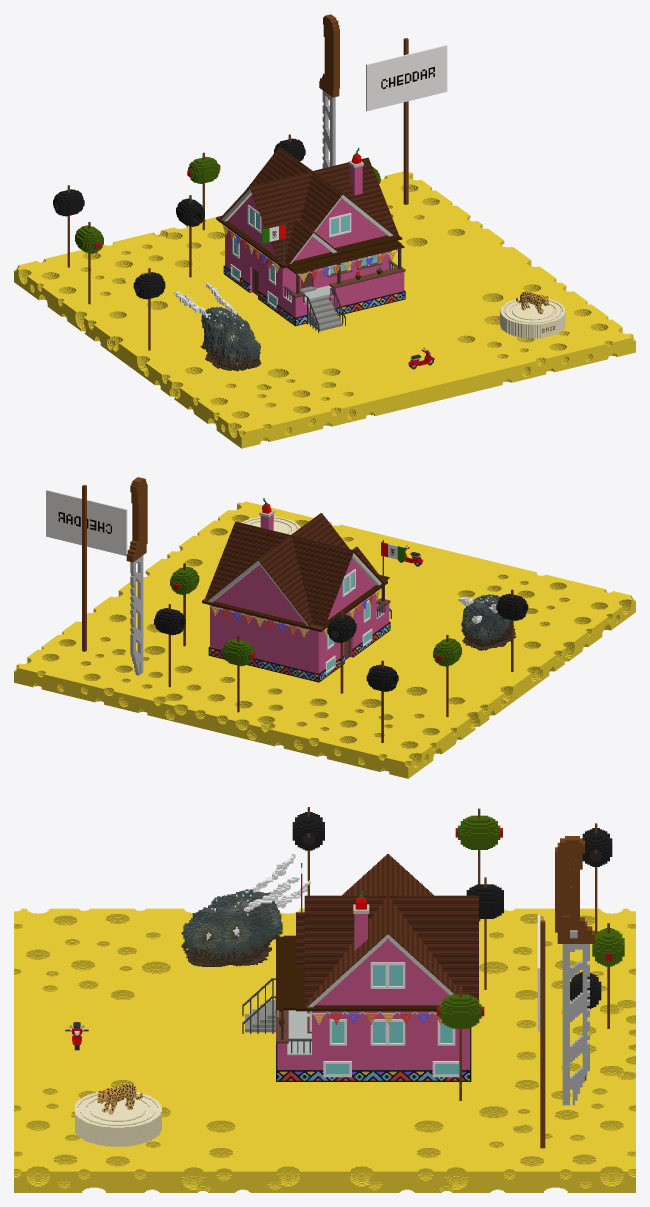
3 renders of one model, top to bottom at view 1: azimuth 30°, elevation 25°; view 2: azimuth 150°, elevation 25°; view 3: azimuth 270°, elevation 25°, orthographic. The views are drawn at different scales.
Visible parts, largest first — view 1: TERRAIN_CHEESE, HOUSE_MEXICAN, OBJ_RANDOM_METEORITO; view 2: TERRAIN_CHEESE, HOUSE_MEXICAN, OBJ_RANDOM_METEORITO; view 3: TERRAIN_CHEESE, HOUSE_MEXICAN, OBJ_RANDOM_METEORITO, ANIMAL_JAGUAR.
Boxes of the visible parts, x1,y1,x2,y2 form: TERRAIN_CHEESE: (14,14,635,448); HOUSE_MEXICAN: (216,147,405,332); OBJ_RANDOM_METEORITO: (174,282,261,371); TERRAIN_CHEESE: (14,477,635,778); HOUSE_MEXICAN: (202,498,405,682); OBJ_RANDOM_METEORITO: (458,594,516,650); TERRAIN_CHEESE: (14,807,635,1192); HOUSE_MEXICAN: (242,854,478,1081); OBJ_RANDOM_METEORITO: (181,853,310,966); ANIMAL_JAGUAR: (97,1083,142,1114).
Size of the model in its own units: 4032 by 2072 by 4000.
Materials: 13 (9 with a texture image).
